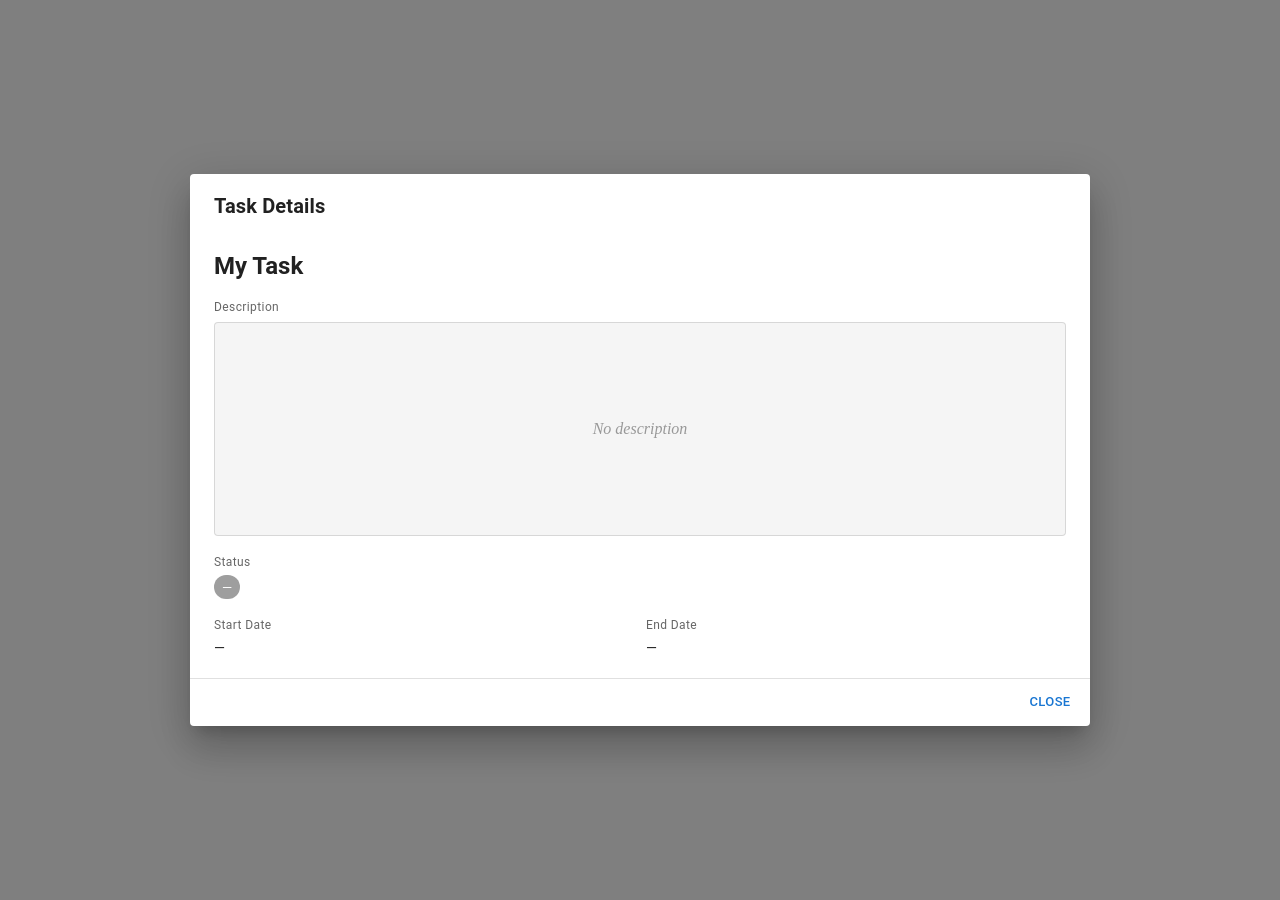
TaskDialog create vs edit mode › edit mode › switches title to text field on click (click-to-edit)
Click the element showing "My Task". click: click(259, 266)
box: [214,252,303,280]
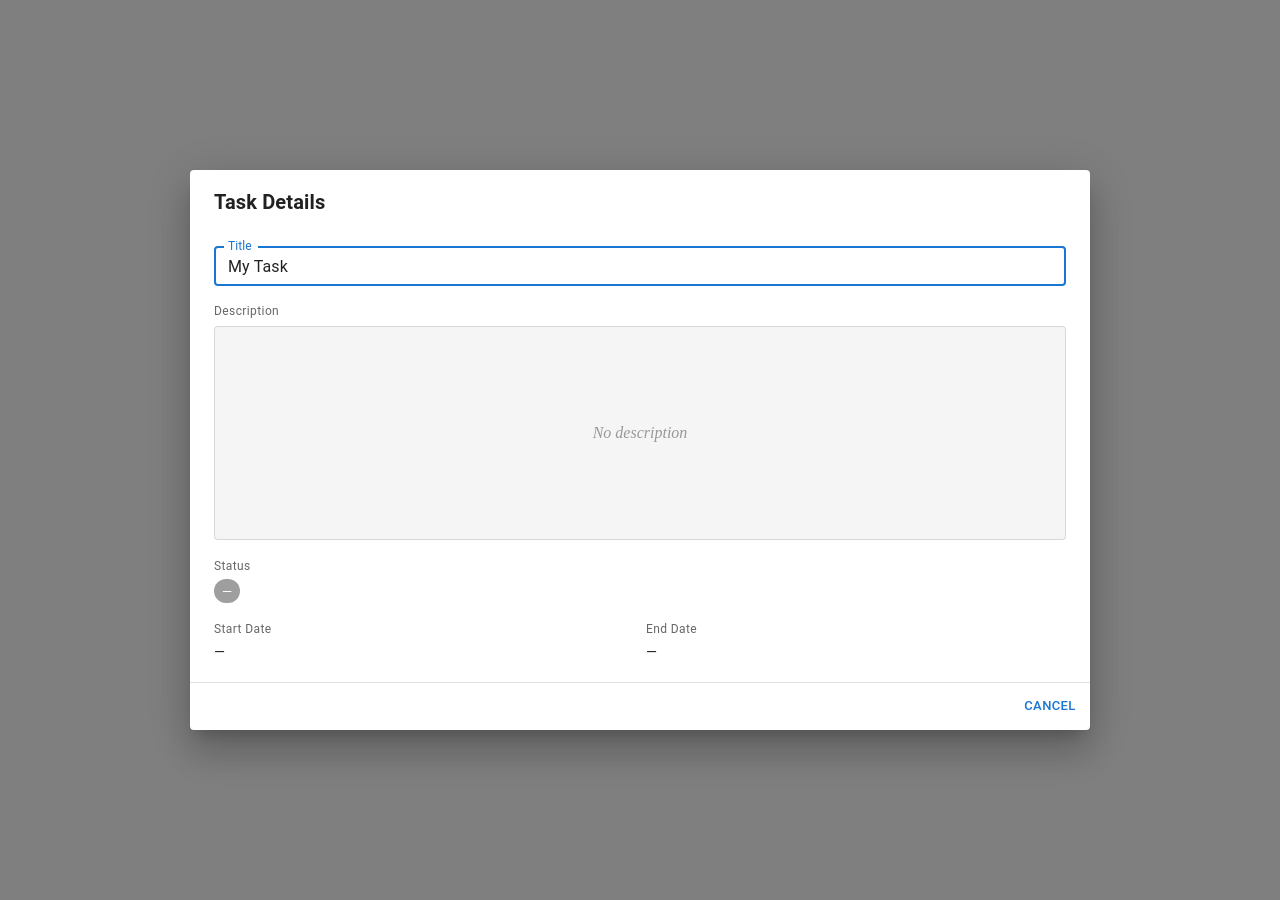
Check: the field labelled "Title" is shown, box [214,246,1066,286]
